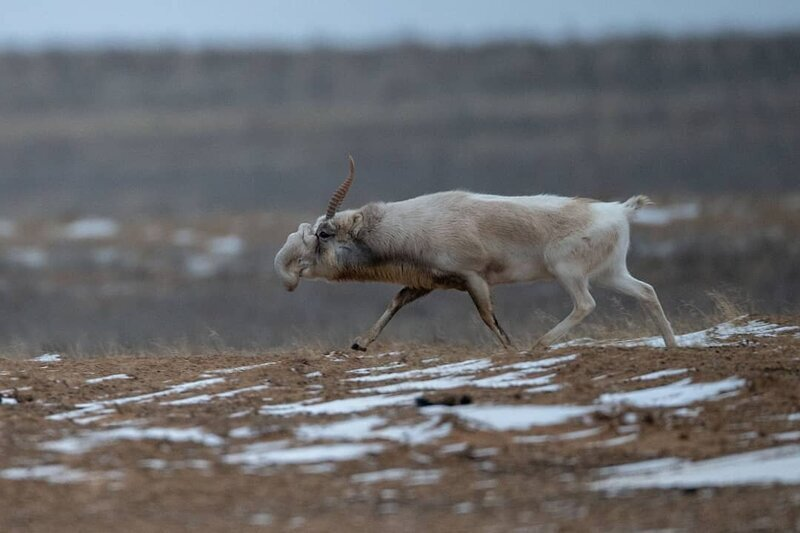saiga: (272, 154, 681, 360)
